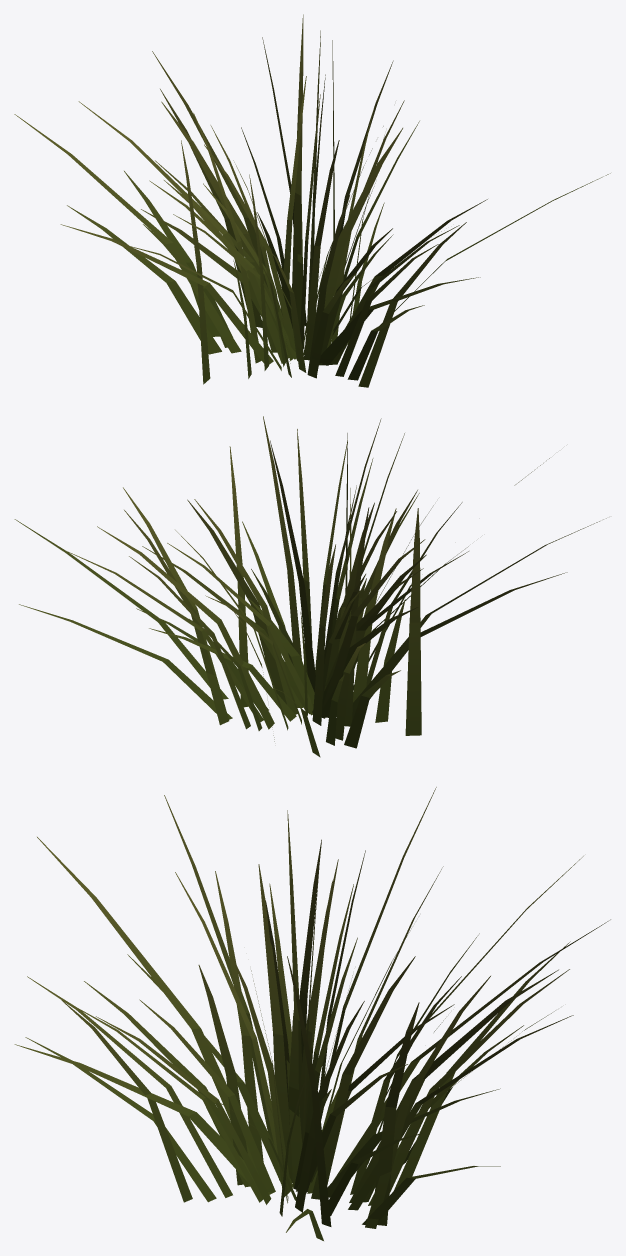
The model's file is track_grass_tuft.glb.
The picture shows the model from 3 angles, top to bottom: view 1: azimuth 30°, elevation 25°; view 2: azimuth 150°, elevation 25°; view 3: azimuth 270°, elevation 25°; orthographic projection. The views are drawn at different scales.
Parts seen in each view (by area): view 1: track_grass_tuft_LOD0; view 2: track_grass_tuft_LOD0; view 3: track_grass_tuft_LOD0.
Boxes of the visible parts, x1,y1,x2,y2 form: track_grass_tuft_LOD0: (14,14,610,387); track_grass_tuft_LOD0: (14,416,606,757); track_grass_tuft_LOD0: (14,787,610,1240).
Bounding box in the file's own units: 0.9734 × 0.4361 × 0.7589.
